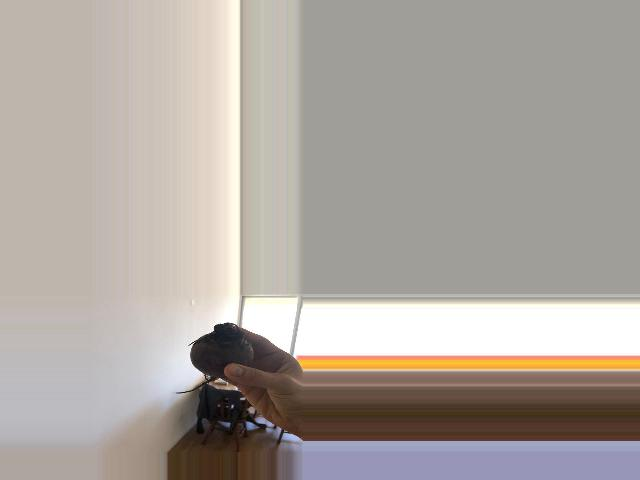beet: (172, 322, 253, 393)
